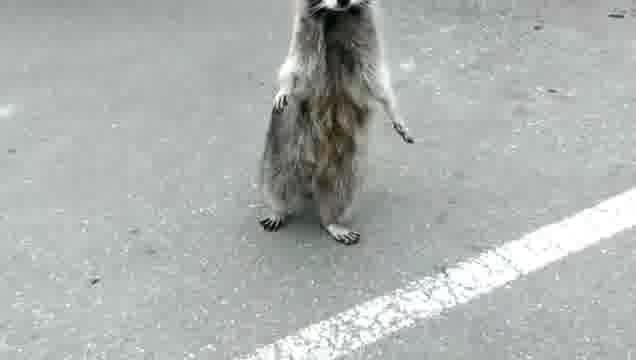raccoon: (254, 0, 418, 253)
